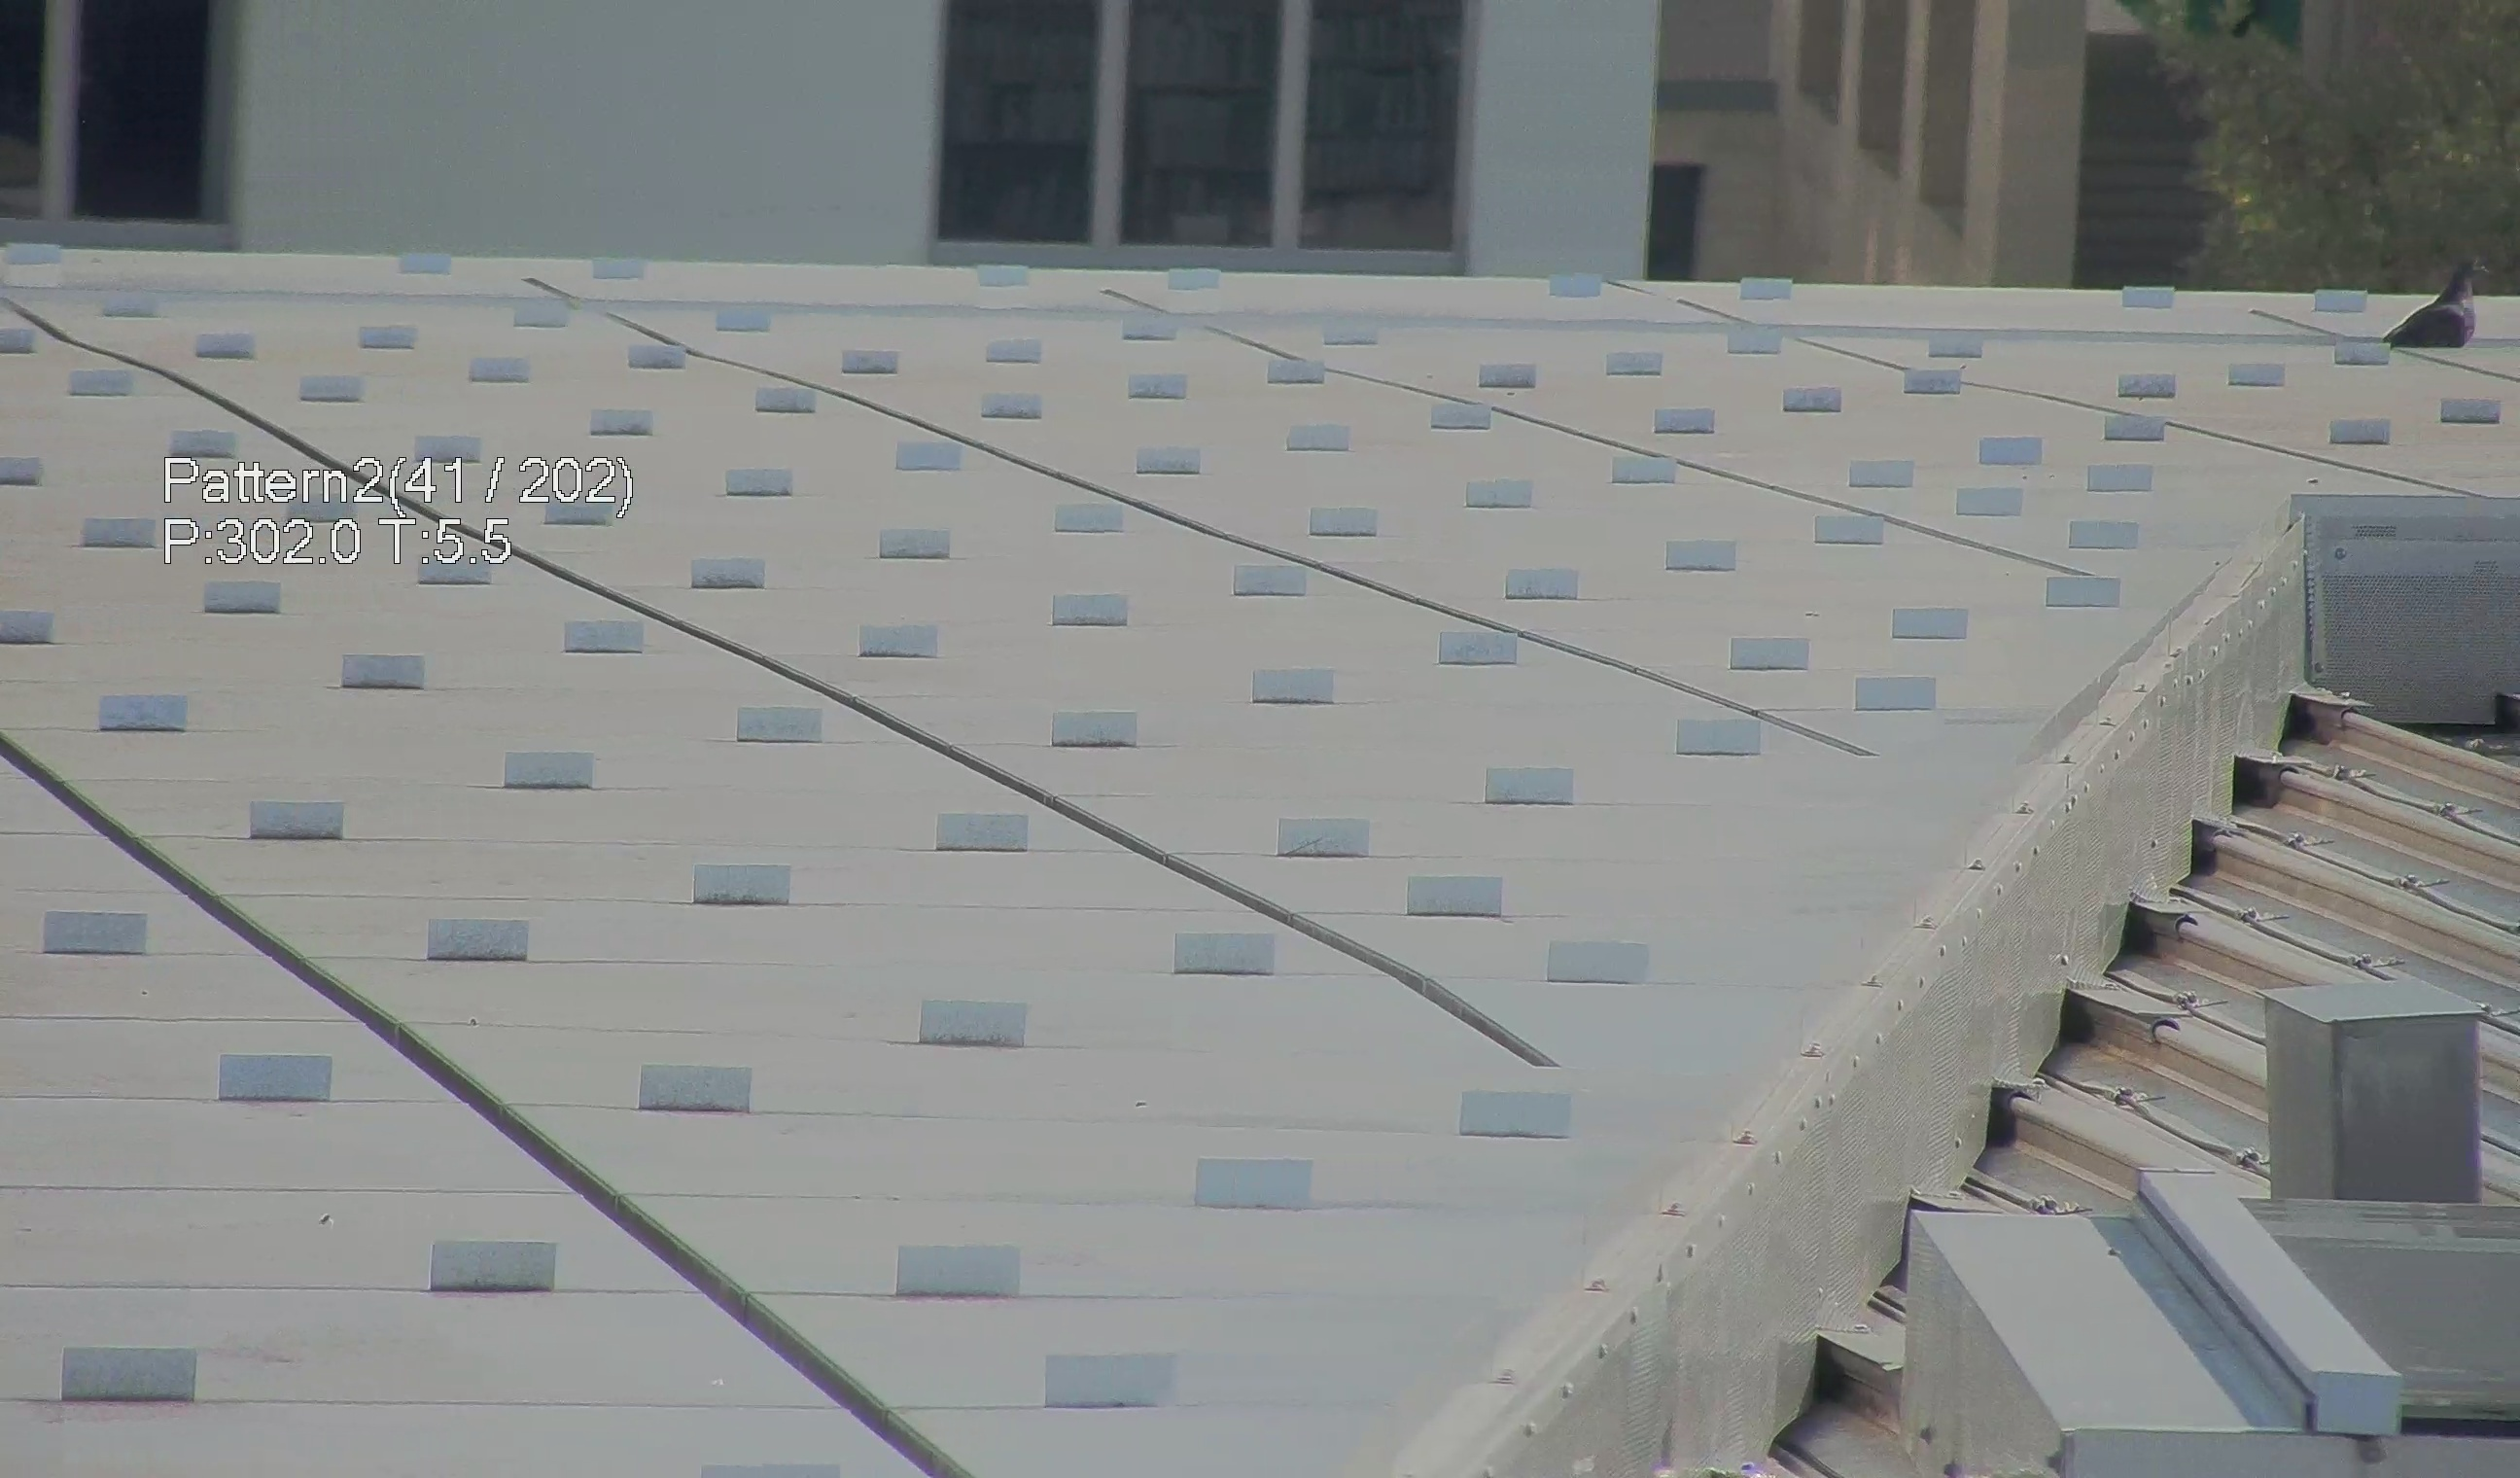Pigeon: (2381, 248, 2501, 357)
